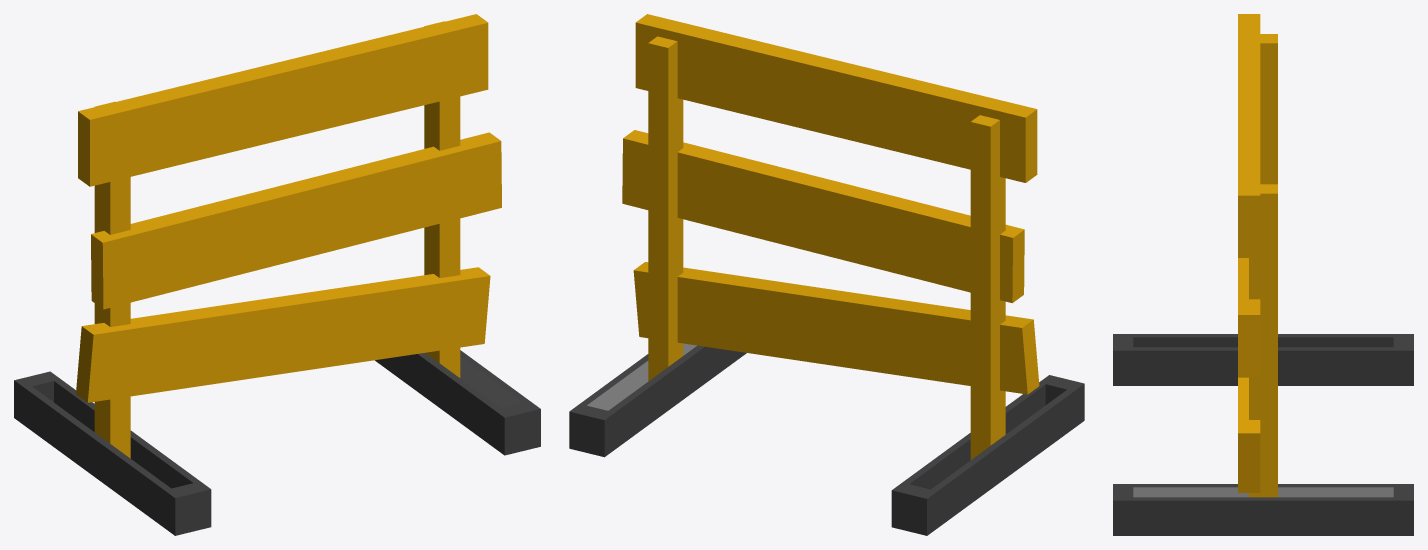
File: WoodBarricade.fbx
3 renders of one model, left to right at view 1: azimuth 30°, elevation 25°; view 2: azimuth 150°, elevation 25°; view 3: azimuth 270°, elevation 25°, orthographic. The views are drawn at different scales.
Parts seen in each view (by area): view 1: Wood1, Wood2, Wood3, Leg1, Leg2, Metal1, Metal2; view 2: Wood1, Wood2, Wood3, Leg1, Metal1, Metal2, Leg2; view 3: Leg2, Leg1, Metal2, Wood1, Metal1, Wood2, Wood3.
Part boxes in pixels (<box>): Wood1: <box>78,14,488,186</box>; Wood2: <box>91,132,501,309</box>; Wood3: <box>76,267,490,402</box>; Leg1: <box>14,371,211,535</box>; Leg2: <box>375,350,540,455</box>; Metal1: <box>94,101,130,458</box>; Metal2: <box>424,21,460,377</box>; Wood1: <box>635,14,1037,182</box>; Wood2: <box>622,130,1024,303</box>; Wood3: <box>633,262,1039,394</box>; Leg1: <box>891,375,1084,535</box>; Metal1: <box>970,115,1005,459</box>; Metal2: <box>648,36,683,381</box>; Leg2: <box>569,343,746,457</box>; Leg2: <box>1113,484,1413,535</box>; Leg1: <box>1113,334,1413,385</box>; Metal2: <box>1249,184,1277,497</box>; Wood1: <box>1238,14,1260,257</box>; Metal1: <box>1260,34,1277,184</box>; Wood2: <box>1238,258,1260,377</box>; Wood3: <box>1238,377,1260,492</box>.
Size of the model in its own units: 11.45 by 9.81 by 7.71.
